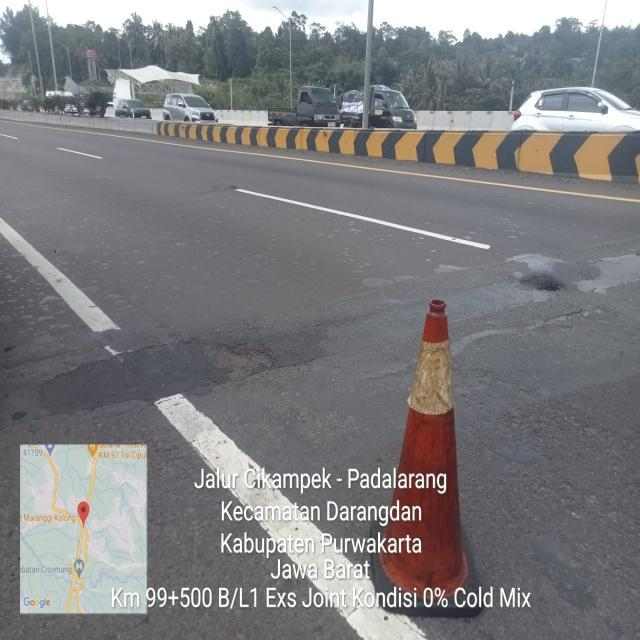Buraco: (197, 340, 280, 384), (516, 272, 568, 295)
